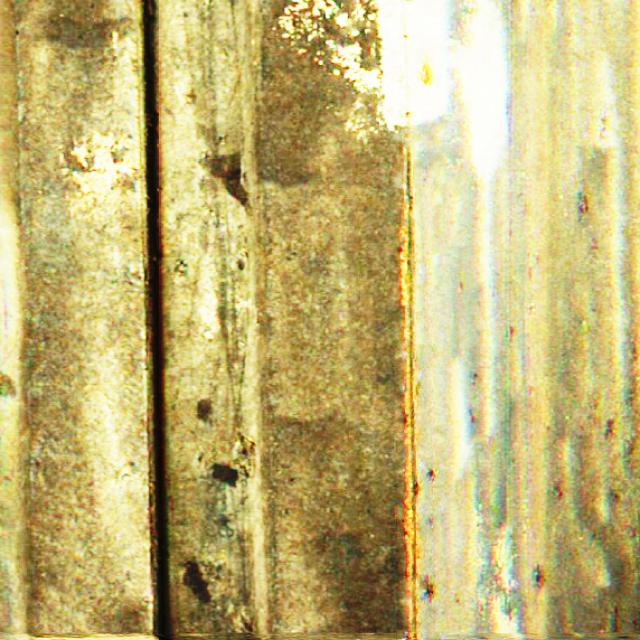Corrosion: (399, 141, 422, 639), (417, 59, 434, 85)
